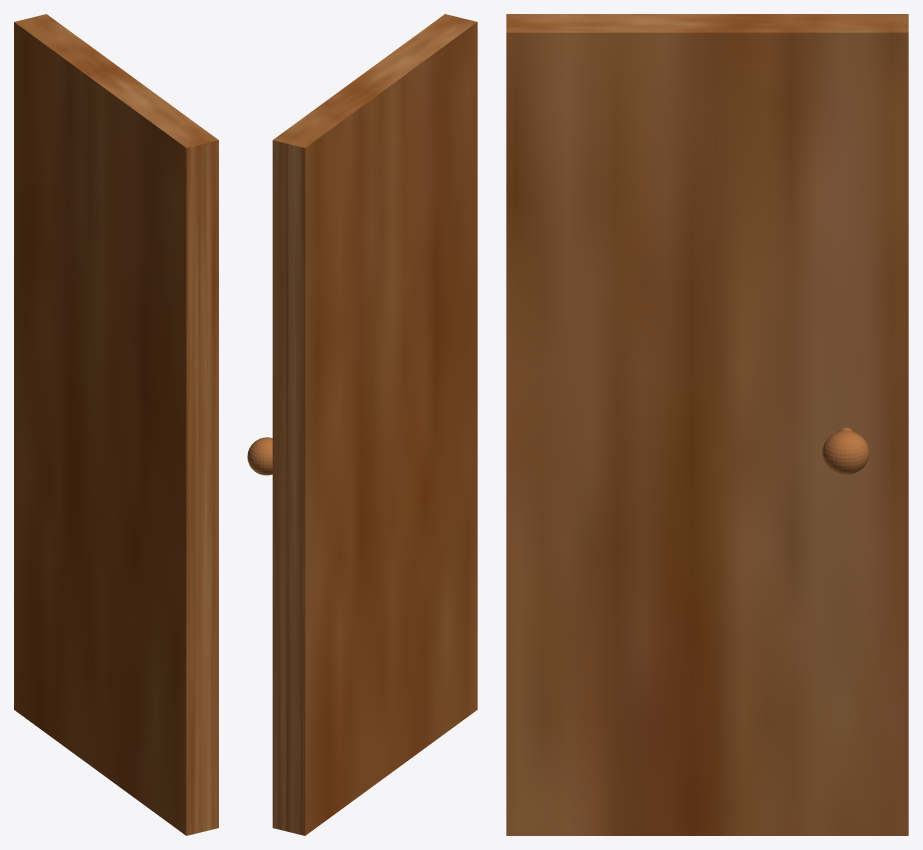
File: puertaIzq.obj
3 renders of one model, left to right at view 1: azimuth 30°, elevation 25°; view 2: azimuth 150°, elevation 25°; view 3: azimuth 270°, elevation 25°, orthographic. The views are drawn at different scales.
Parts seen in each view (by area): view 1: Cube.001; view 2: Cube.001; view 3: Cube.001.
Boxes of the visible parts, bbox=[...] form: Cube.001: bbox=[14, 14, 218, 835]; Cube.001: bbox=[247, 14, 477, 835]; Cube.001: bbox=[506, 14, 908, 835].
Size of the model in its own units: 0.7093 by 5.7 by 2.59.
